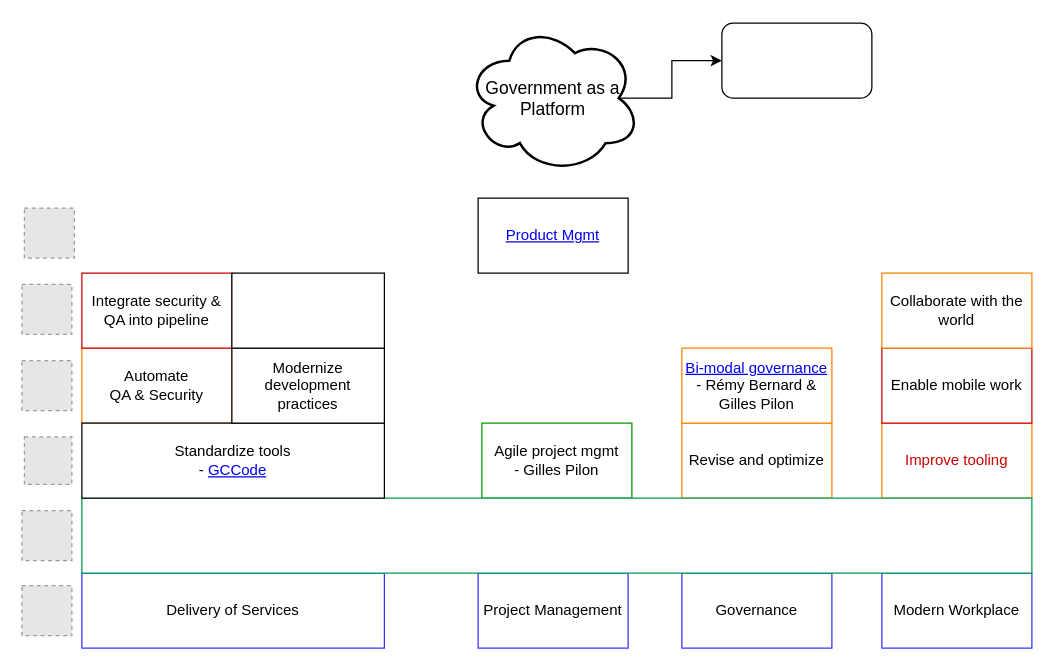
Some shapes in this 1054 by 670 pixel diagram are drawn without their labels. Grey dashed boxes stand in for pictures. Here are the shapes that lost their labels. From the top down, the centre of each, then its label:
the point at 796,60: HDLC
the point at 556,535: Build community, a culture of learning, work in the open GCDevOps League / Agora
